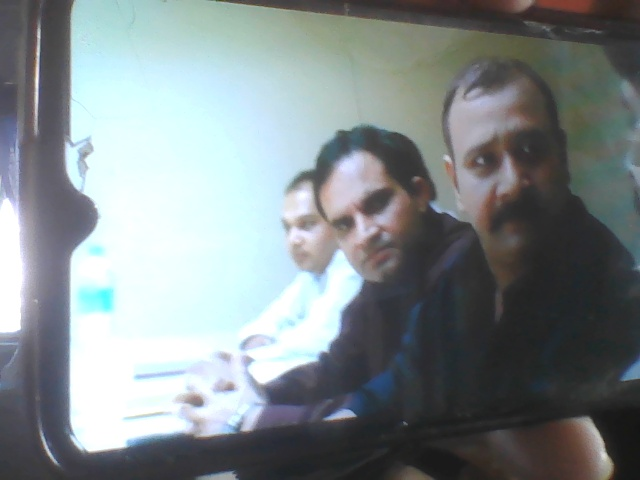fake: (441, 51, 588, 260), (315, 121, 436, 292)
